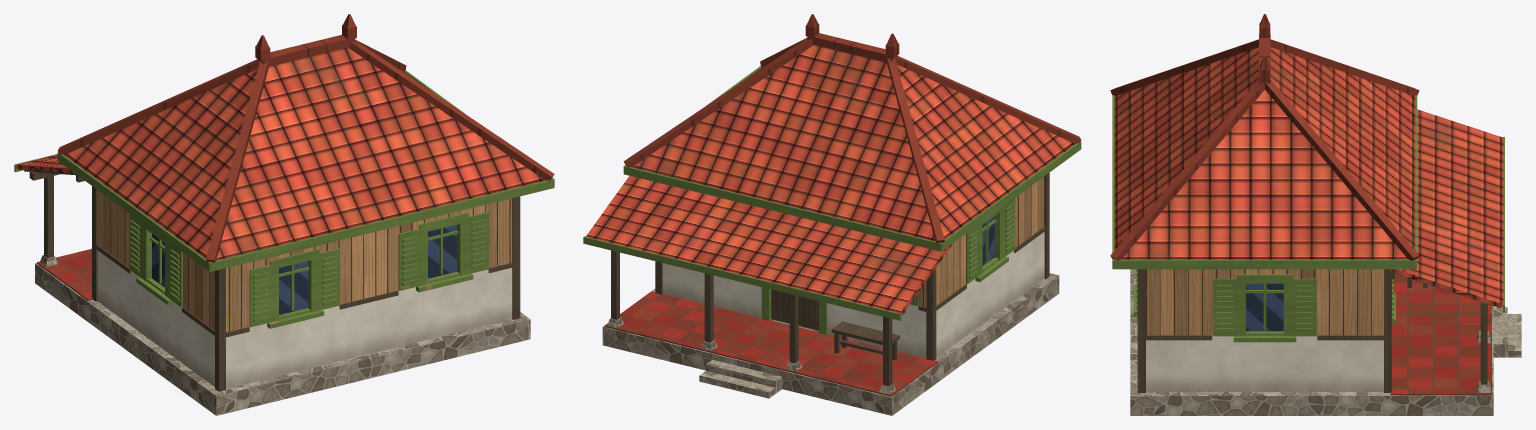
Rendered from rumah_desa.fbx.
3 views of the same model, side by side, from view 1: azimuth 30°, elevation 25°; view 2: azimuth 150°, elevation 25°; view 3: azimuth 270°, elevation 25° (orthographic). The views are drawn at different scales.
Visible parts, largest first — view 1: RumahDesa_Genteng, RumahDesa_Plester, RumahDesa_Hijau, RumahDesa_Batu, RumahDesa_Papan, RumahDesa_Wuwung, RumahDesa_Kayu, RumahDesa_Kaca, RumahDesa_Tegel; view 2: RumahDesa_Genteng, RumahDesa_Tegel, RumahDesa_Batu, RumahDesa_Plester, RumahDesa_Hijau, RumahDesa_Wuwung, RumahDesa_Kayu, RumahDesa_Papan; view 3: RumahDesa_Genteng, RumahDesa_Plester, RumahDesa_Batu, RumahDesa_Hijau, RumahDesa_Papan, RumahDesa_Tegel, RumahDesa_Wuwung, RumahDesa_Kayu, RumahDesa_Kaca.
Part boxes in pixels (x1,y1,x2,y2): RumahDesa_Genteng: (16, 47, 545, 260); RumahDesa_Plester: (97, 250, 512, 388); RumahDesa_Hijau: (14, 70, 554, 328); RumahDesa_Batu: (35, 255, 530, 415); RumahDesa_Papan: (97, 190, 512, 332); RumahDesa_Wuwung: (57, 14, 554, 262); RumahDesa_Kayu: (24, 170, 520, 391); RumahDesa_Kaca: (152, 224, 456, 314); RumahDesa_Tegel: (37, 249, 92, 300); RumahDesa_Genteng: (585, 45, 1074, 315); RumahDesa_Tegel: (604, 291, 938, 396); RumahDesa_Batu: (602, 273, 1059, 415); RumahDesa_Plester: (662, 232, 1044, 357); RumahDesa_Hijau: (583, 66, 1081, 334); RumahDesa_Wuwung: (623, 14, 1081, 243); RumahDesa_Kayu: (611, 173, 1049, 386); RumahDesa_Papan: (918, 176, 1044, 307); RumahDesa_Genteng: (1114, 47, 1503, 308); RumahDesa_Plester: (1146, 335, 1383, 391); RumahDesa_Batu: (1130, 269, 1521, 415); RumahDesa_Hijau: (1112, 95, 1504, 342); RumahDesa_Papan: (1146, 269, 1383, 335); RumahDesa_Tegel: (1390, 273, 1491, 395); RumahDesa_Wuwung: (1110, 14, 1419, 261); RumahDesa_Kayu: (1137, 269, 1500, 392); RumahDesa_Kaca: (1246, 283, 1283, 331).
Size of the model in its own units: 25.75 by 21.4 by 26.28.
Materials: 10 (10 with a texture image).
